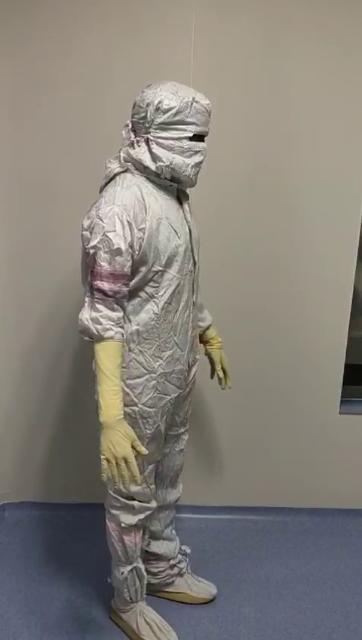boot_not_secured: (142, 502, 218, 616)
boot_secured: (110, 476, 168, 636)
gloves_fitted_securely: (85, 331, 151, 495)
gloves_not_fitted_securely: (180, 300, 246, 418)
headgear_not_secured_backside: (84, 70, 240, 208)
zip_not_secured: (168, 176, 200, 218)
